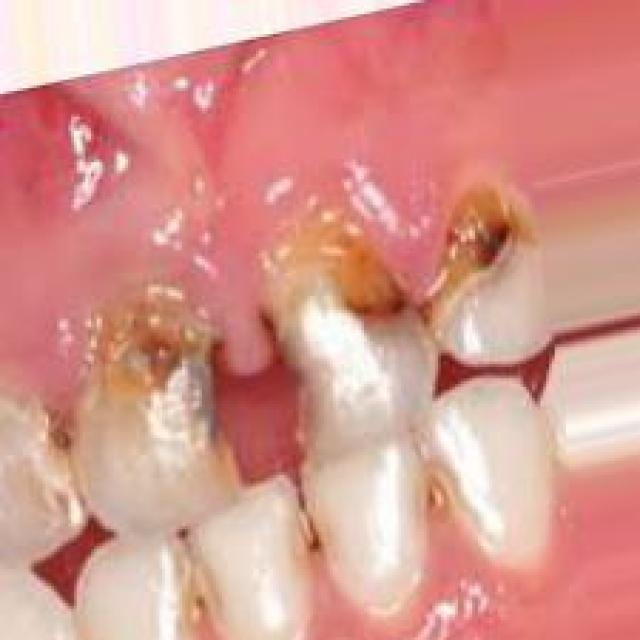caries: (250, 205, 431, 435), (76, 292, 251, 504), (416, 180, 526, 334), (0, 380, 92, 509)
